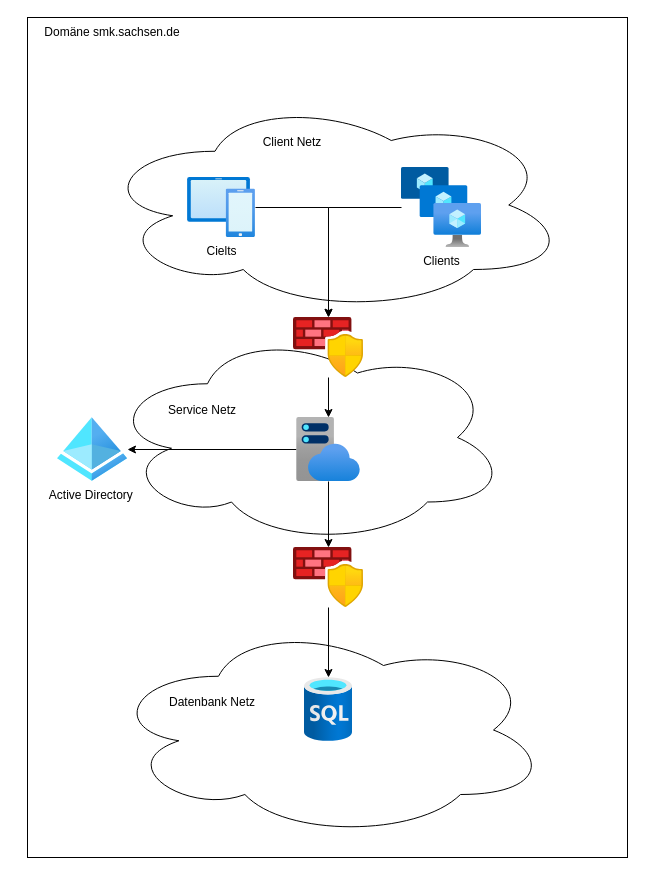
Image size: 645x875. Some labels were removed from this diagram. Each missing label, with the box of its shape:
Datenbank: (304, 677, 352, 741)
Webserver: (296, 417, 360, 481)
